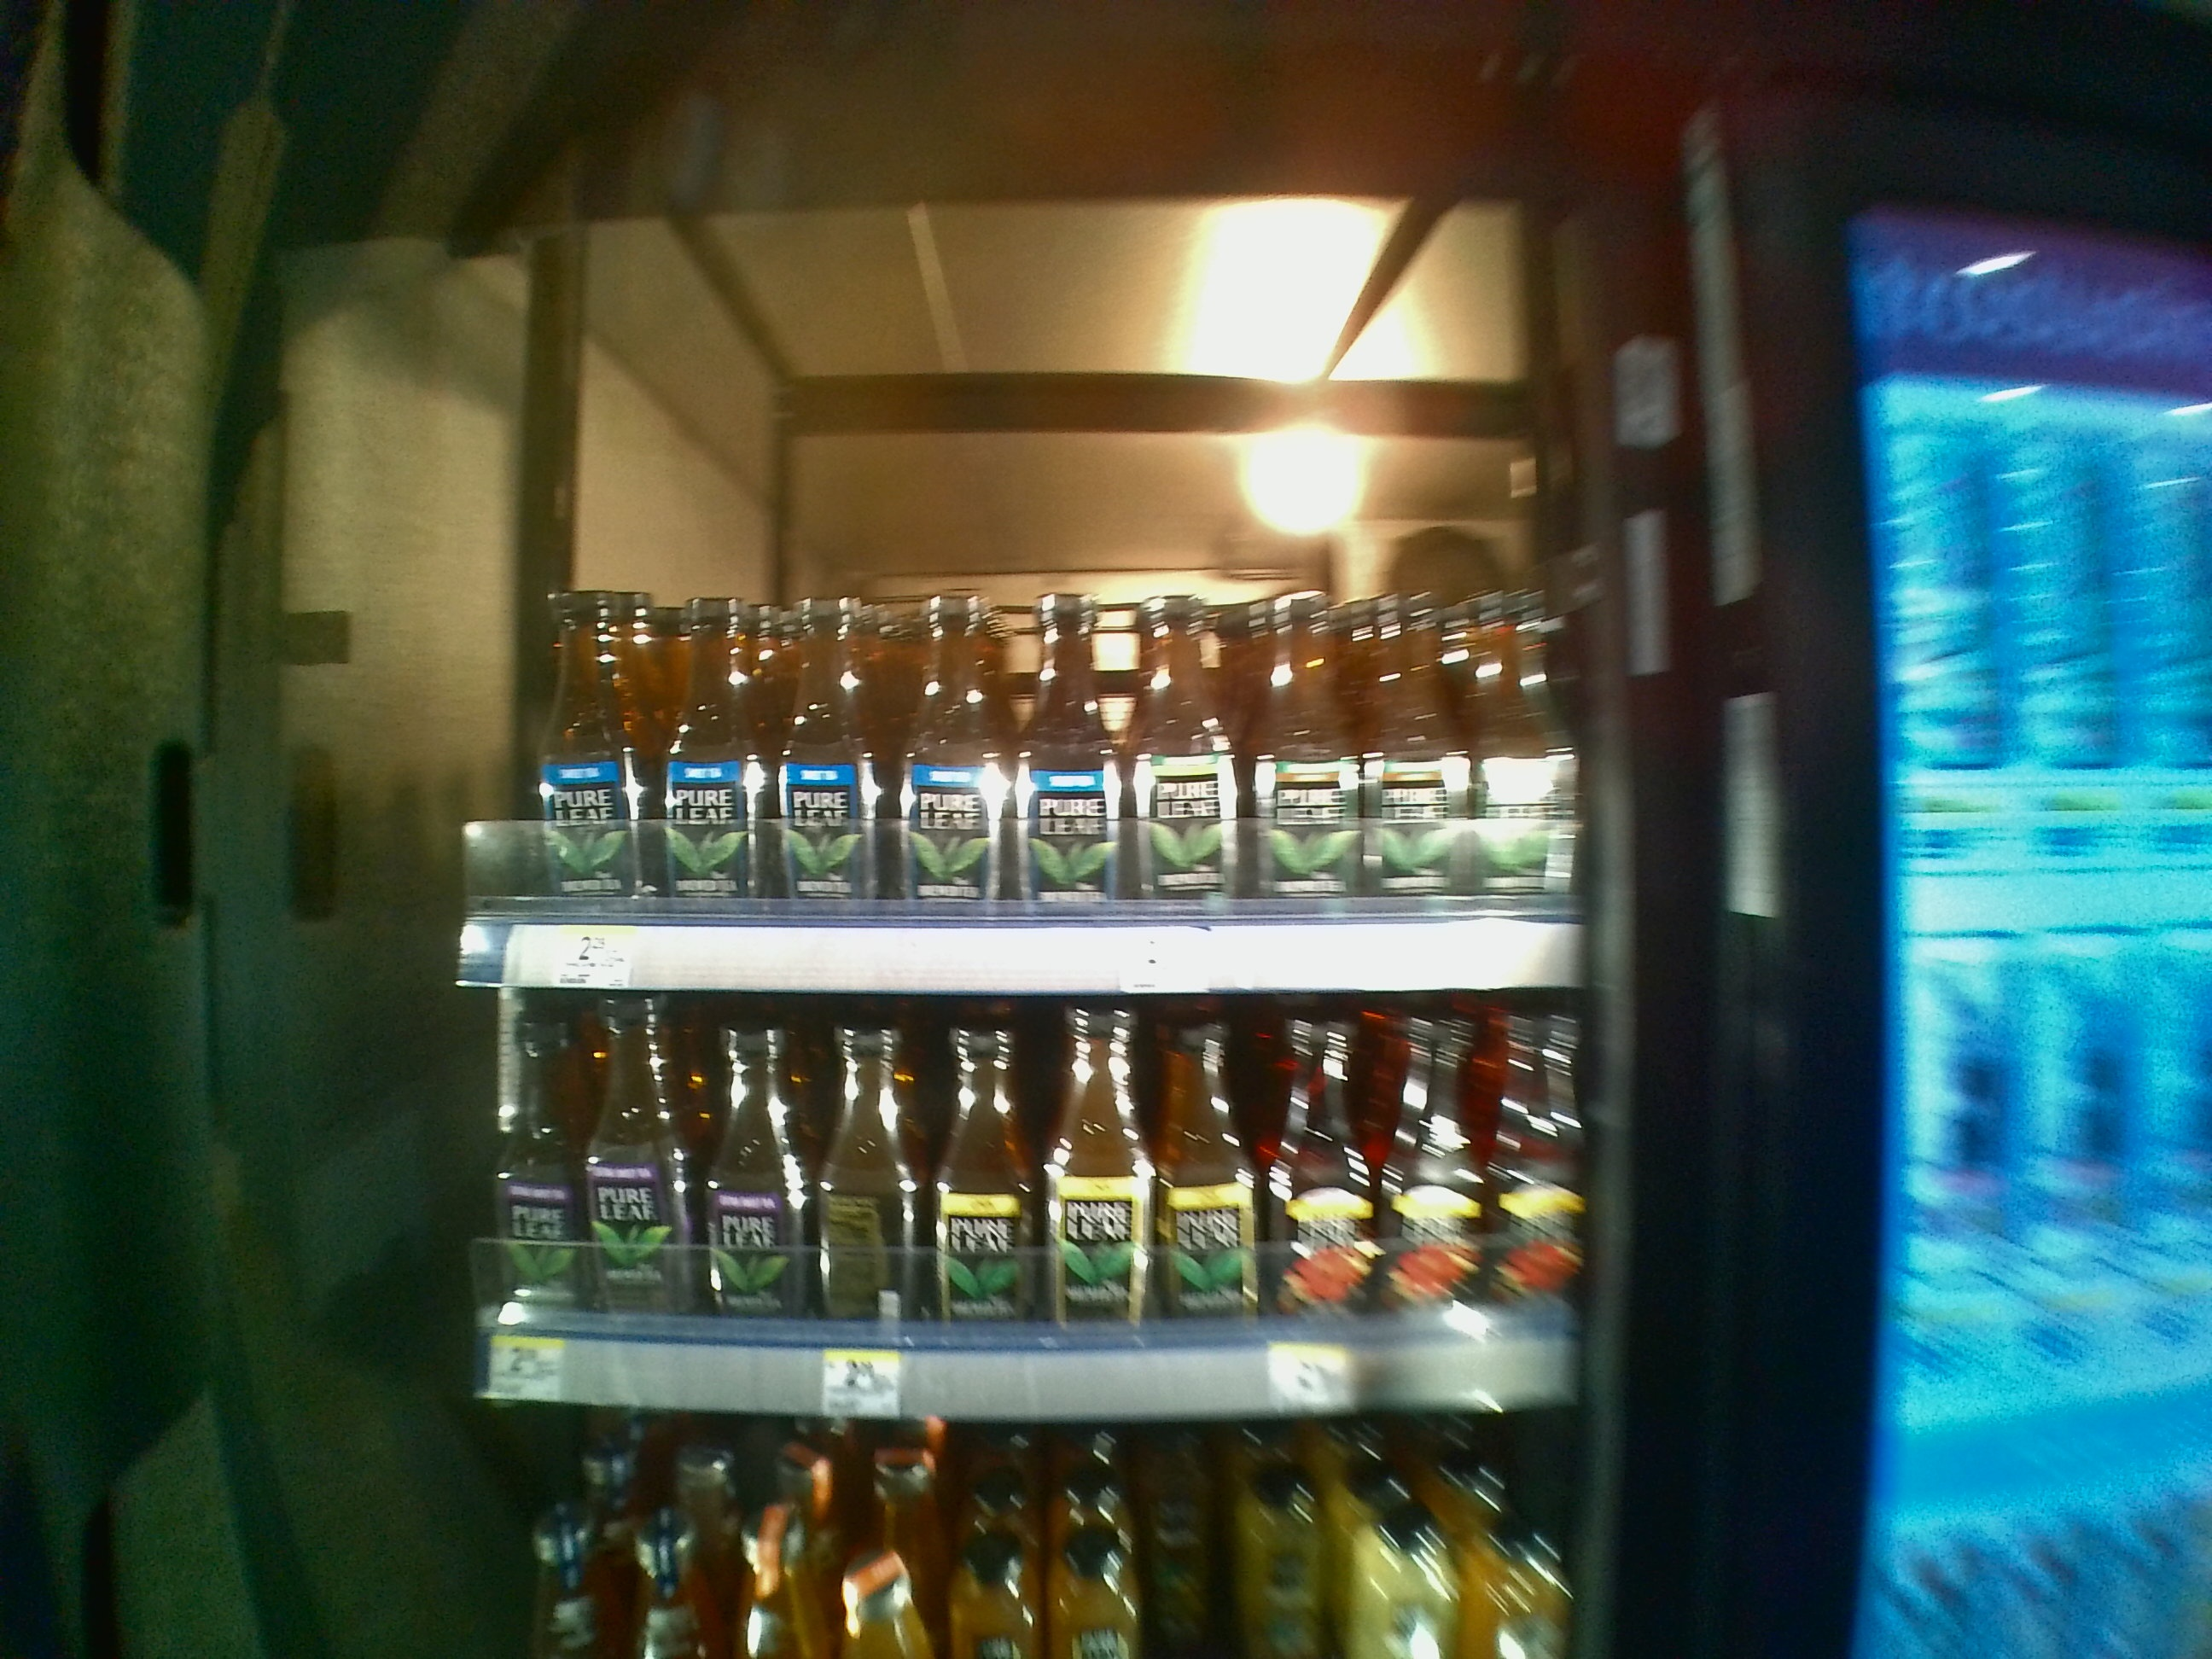shelf: (451, 279, 1576, 990), (444, 1002, 1595, 1406)
